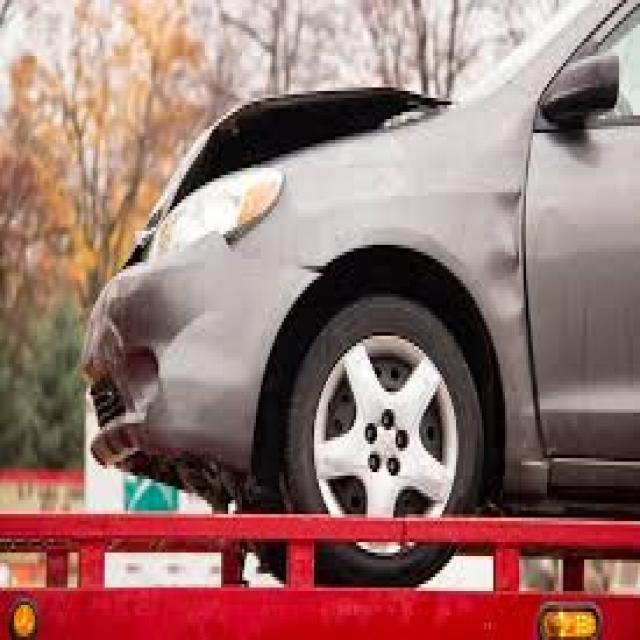minor: (503, 160, 539, 423)
moderate: (153, 82, 473, 187)
